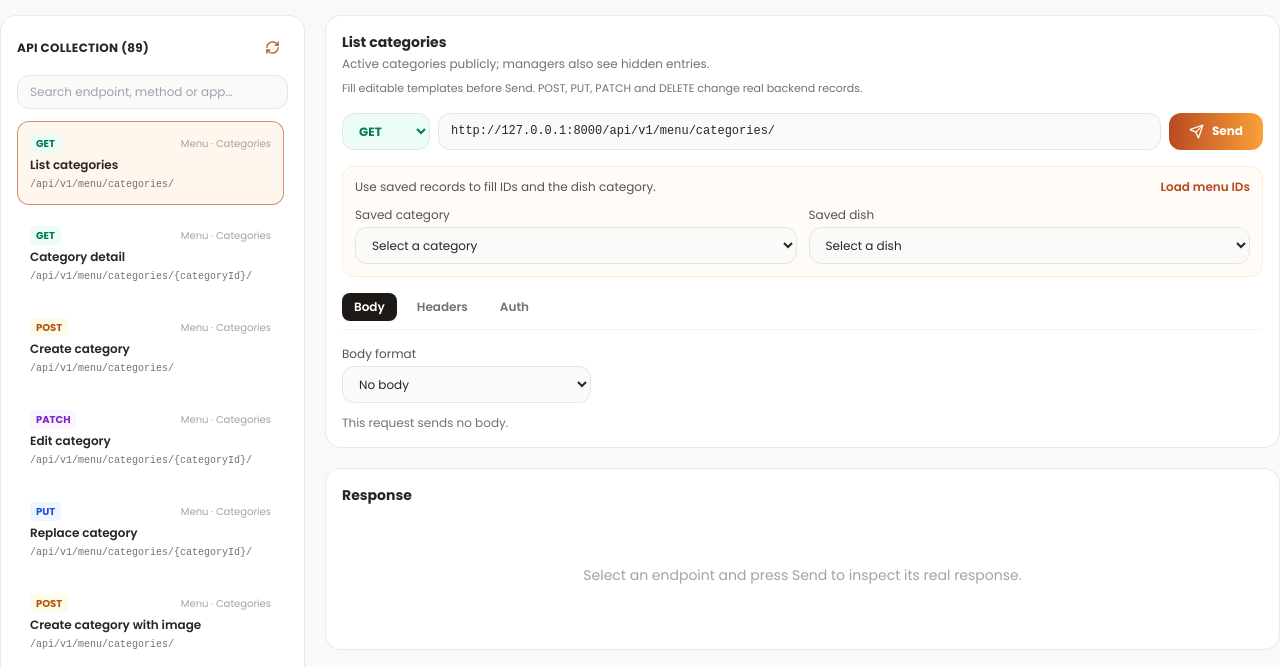
Scenario: admin API tester › preserves HTTP errors and exposes response headers
Click the button "Create category": (49, 328) x1=17 y1=305 x2=284 y2=389
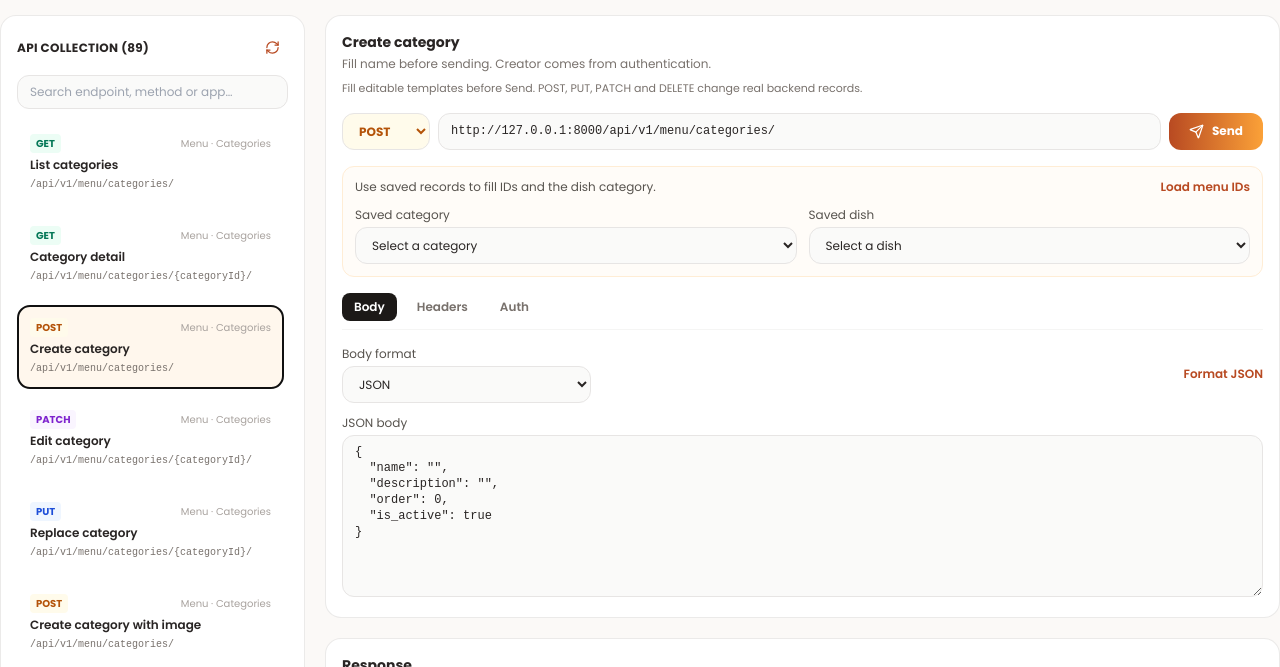
Click the button "Send": (1216, 131) x1=1169 y1=112 x2=1263 y2=150
(page scrolled)
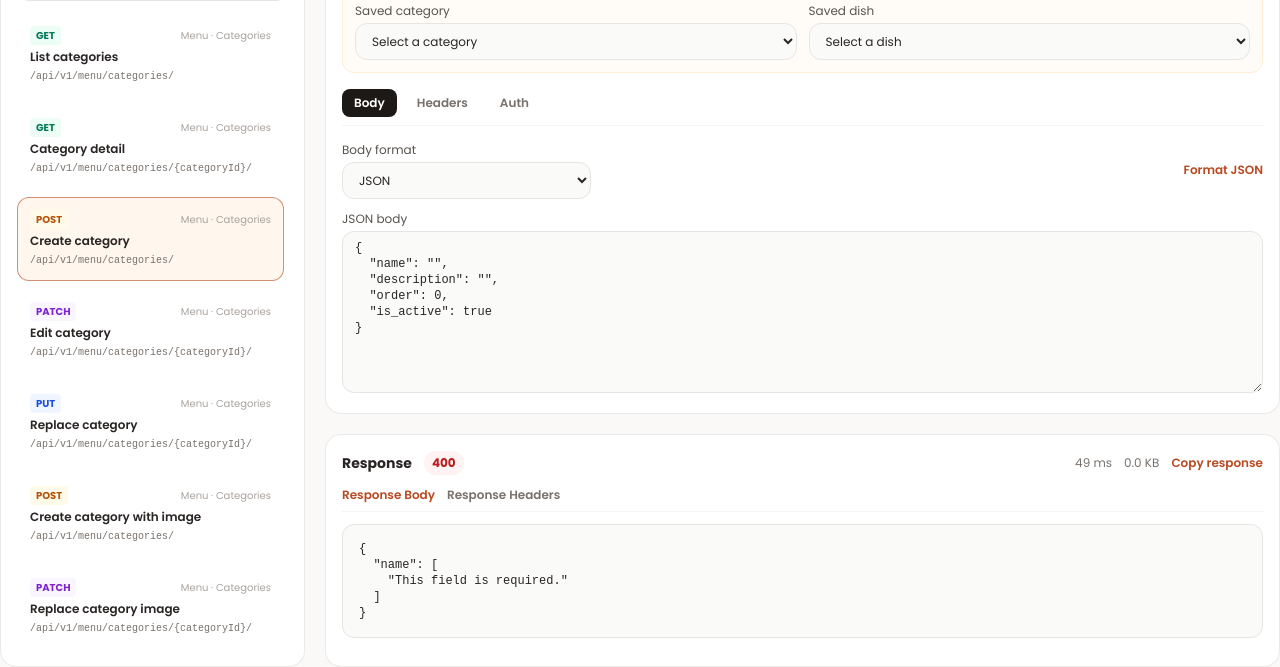
Expected: the text named "Response body" shows "This field is required.", x1=359 y1=542 x2=568 y2=620
Expected: the message reads "400", x1=432 y1=454 x2=456 y2=470
Click the button "Response headers": (504, 494) x1=447 y1=486 x2=560 y2=502
(page scrolled)
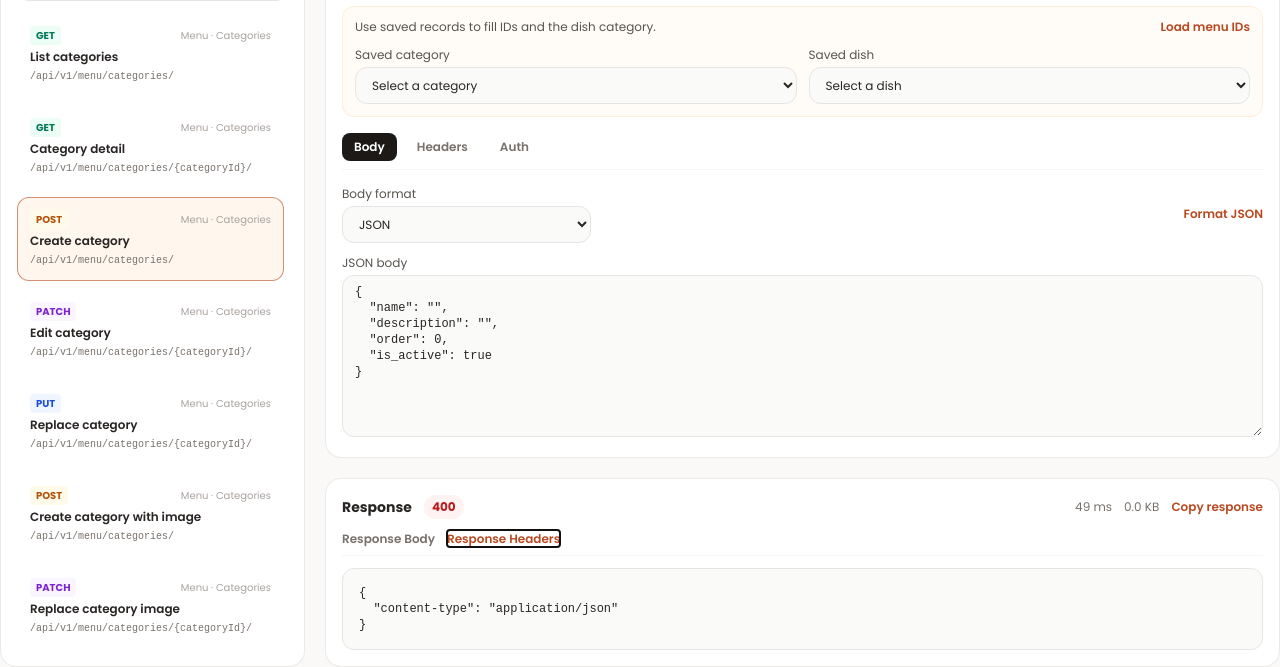
Expected: the text named "Response headers" shows "application/json", x1=359 y1=586 x2=618 y2=632
